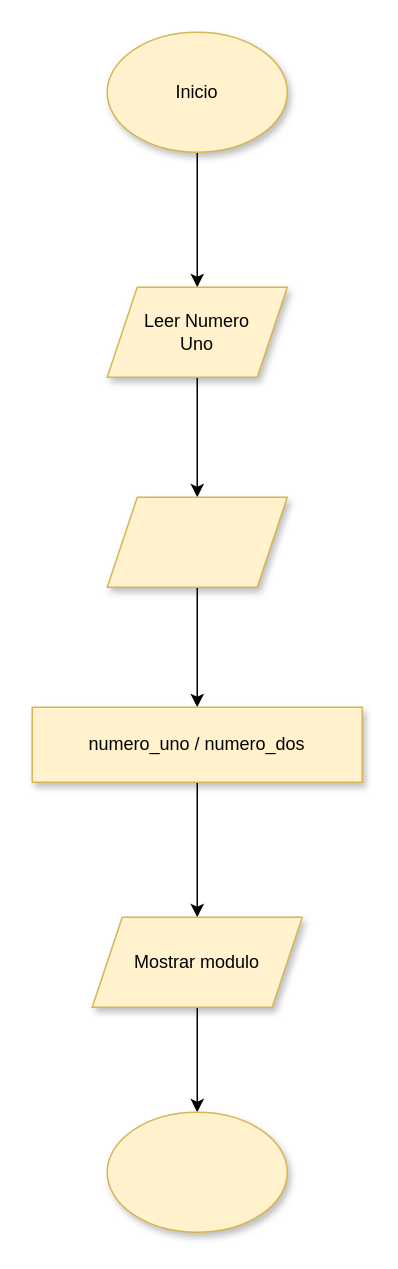
The diagram is 398 pixels wide and 1269 high, and some of its shapes have lost their labels. Here are the shapes that lost their labels. From the top down, the centre of each, then its label:
At pixel 198 544: "Leer Numero dos".
At pixel 198 1174: "Fin".
